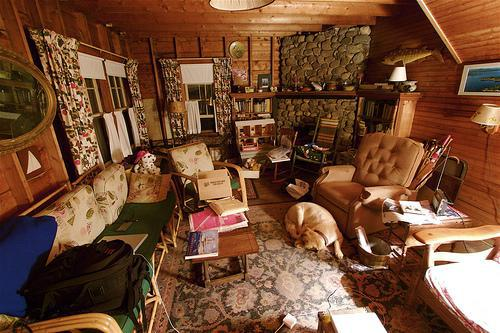tv: (325, 310, 393, 331), (99, 230, 145, 255)
